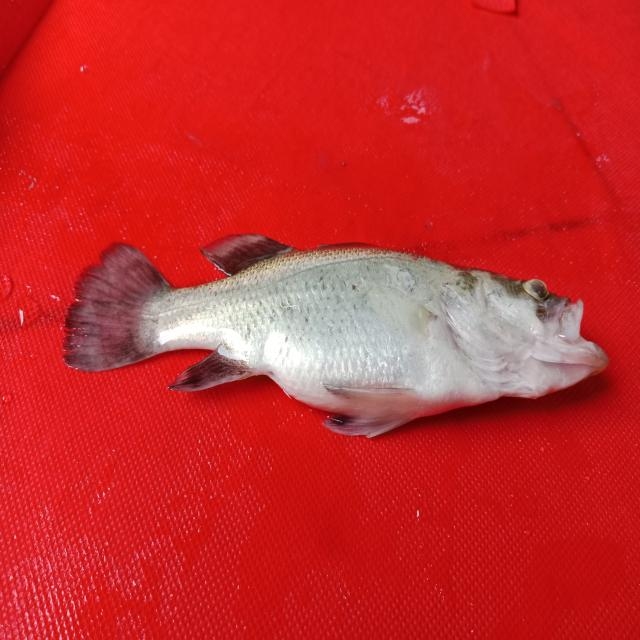ikan: (47, 196, 618, 466)
